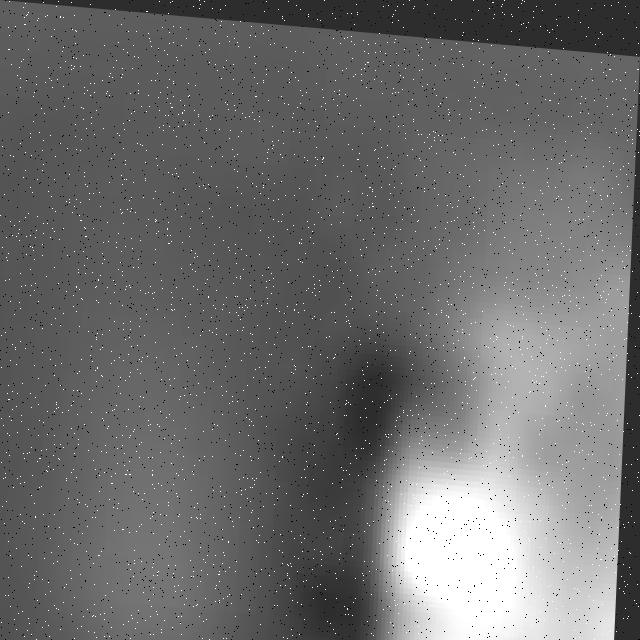person: (382, 203, 635, 640)
